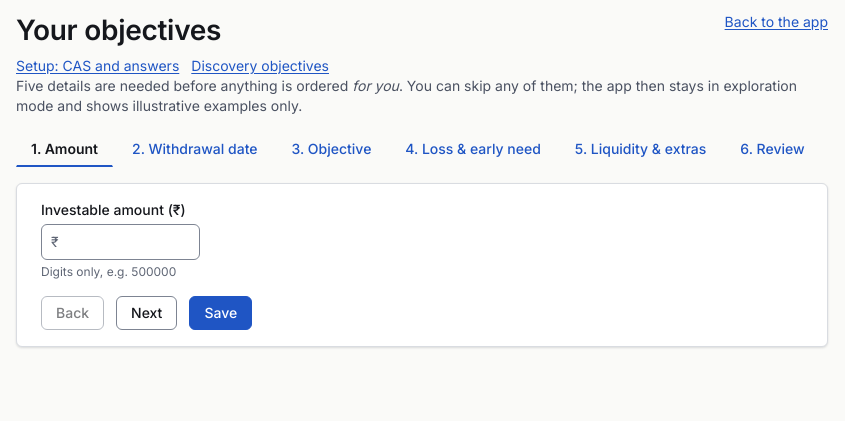
Scenario: Onboarding: growth objectives need a loss limit (user report 2026-10-15) › a server refusal shows the server's own reason, not a guess
Click the button "Save" at (221, 313), box [189,296,252,330]
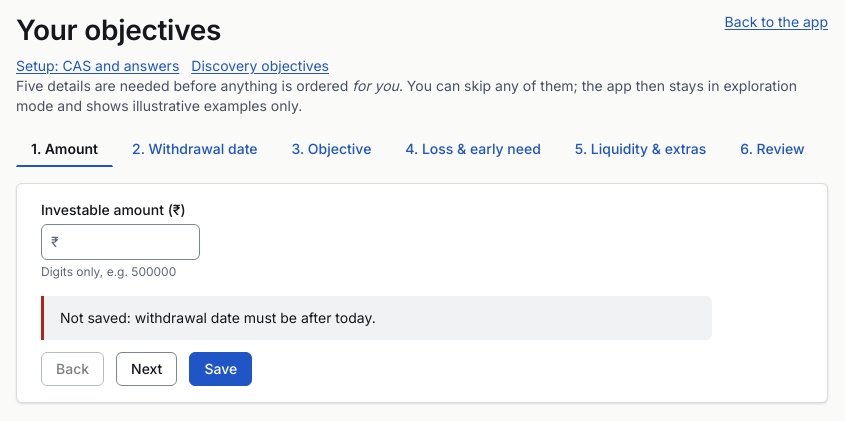
Now the text "Not saved: withdrawal date must be after today." is shown, box [41,296,712,340]
